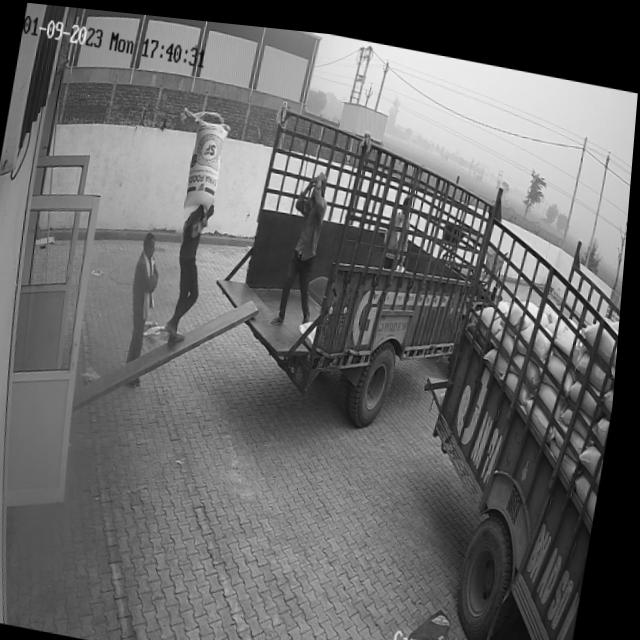sack: (184, 112, 232, 210)
